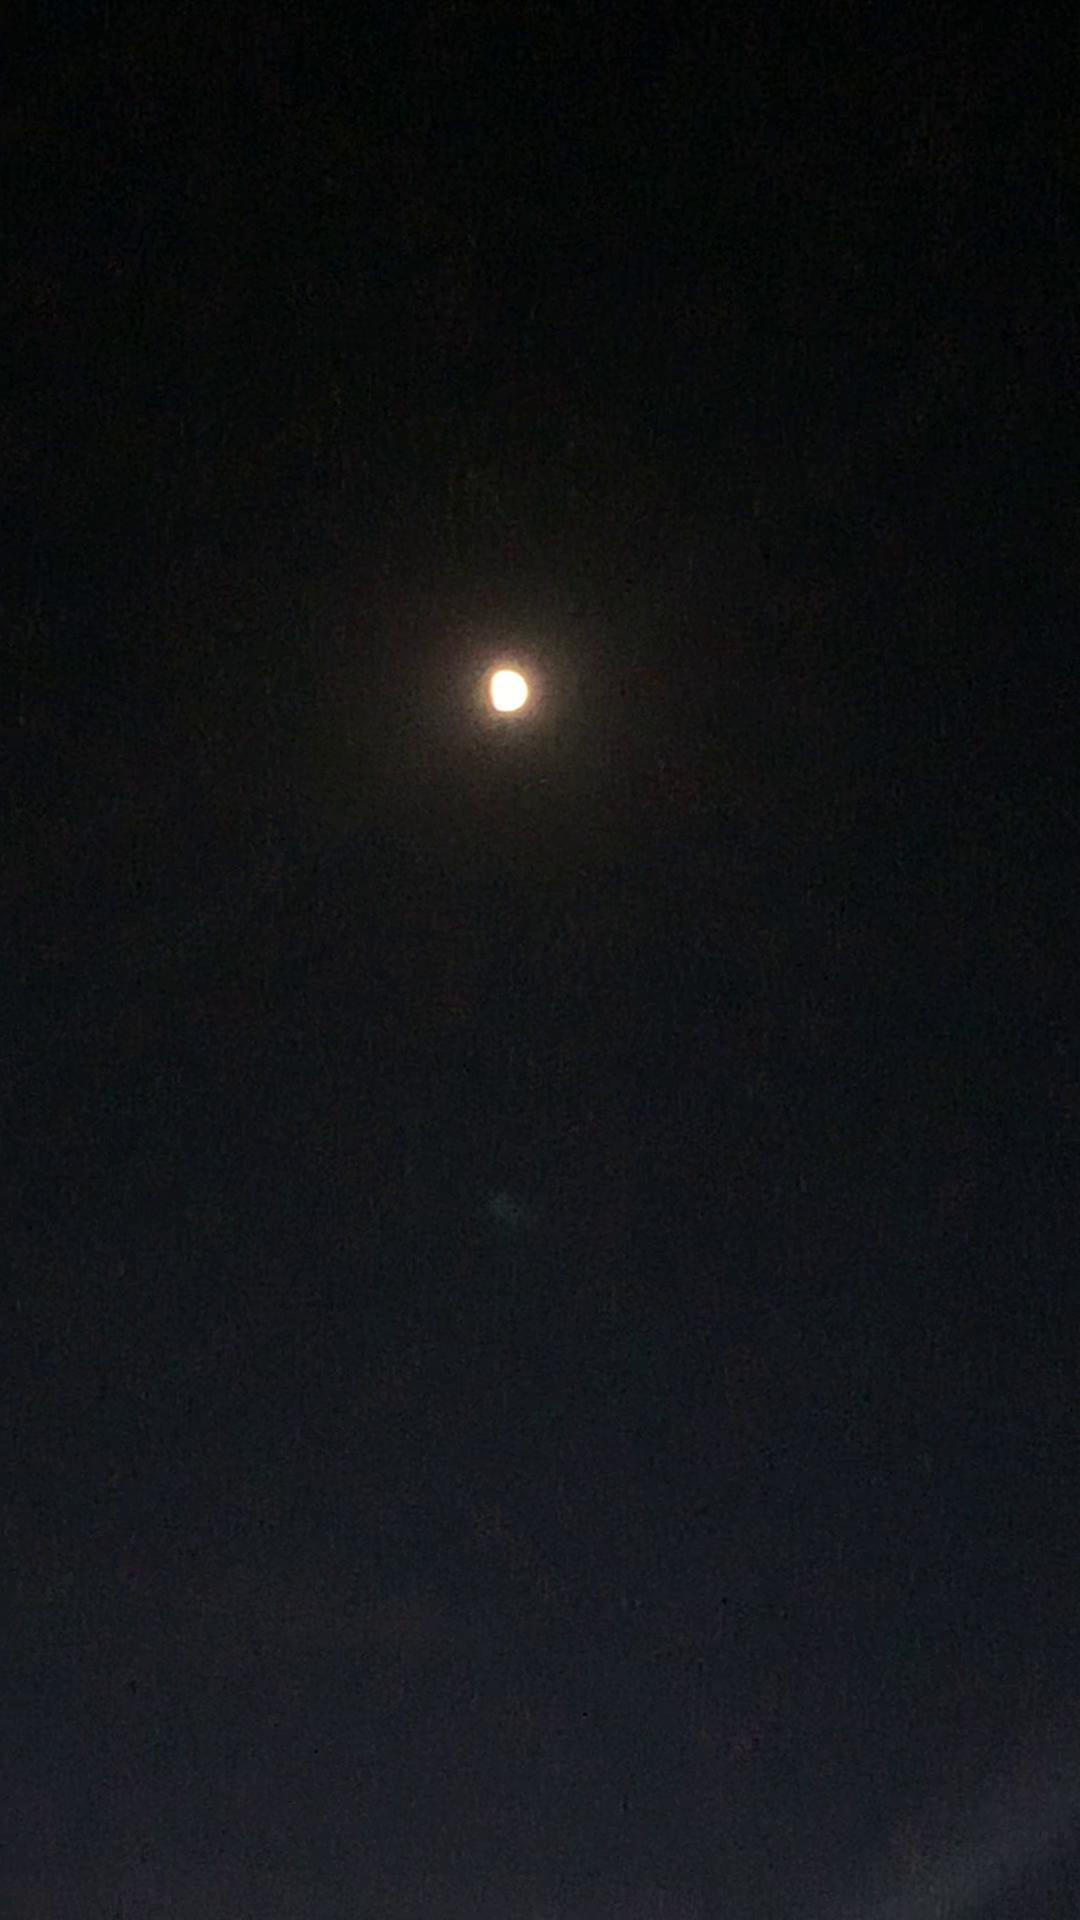moon: (467, 651, 553, 746)
